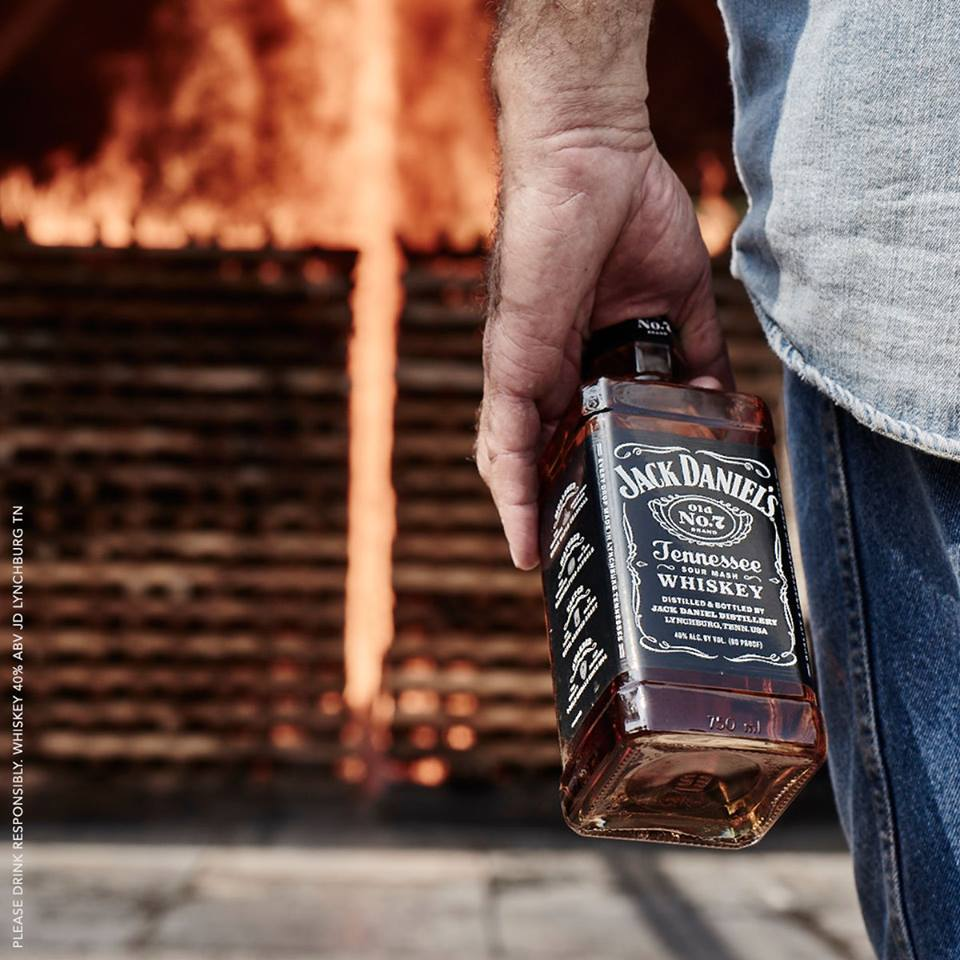Jack Daniel: (524, 290, 843, 862)
